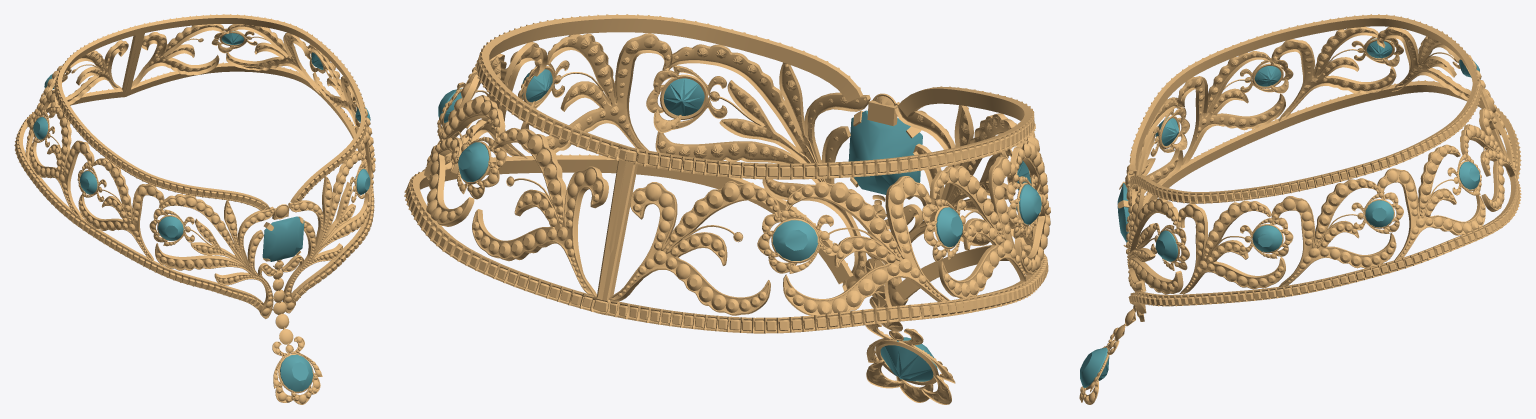
The model's file is Necklace_01.glb.
The picture shows the model from 3 angles, left to right: view 1: azimuth 30°, elevation 25°; view 2: azimuth 150°, elevation 25°; view 3: azimuth 270°, elevation 25°; orthographic projection. The views are drawn at different scales.
Parts seen in each view (by area): view 1: necklace_0; view 2: necklace_0; view 3: necklace_0.
Part boxes in pixels (x1=…): necklace_0: x1=14, y1=14, x2=375, y2=404; necklace_0: x1=404, y1=14, x2=1050, y2=404; necklace_0: x1=1079, y1=14, x2=1521, y2=404.
Size of the model in its own units: 0.944 by 0.772 by 0.9652.
